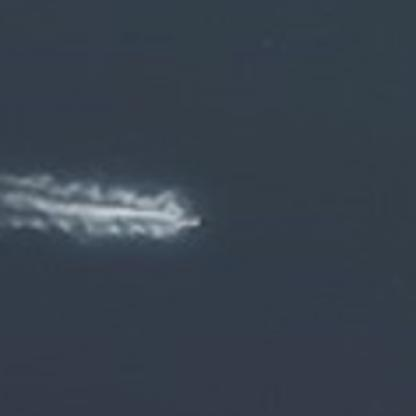ship: (134, 184, 206, 248)
